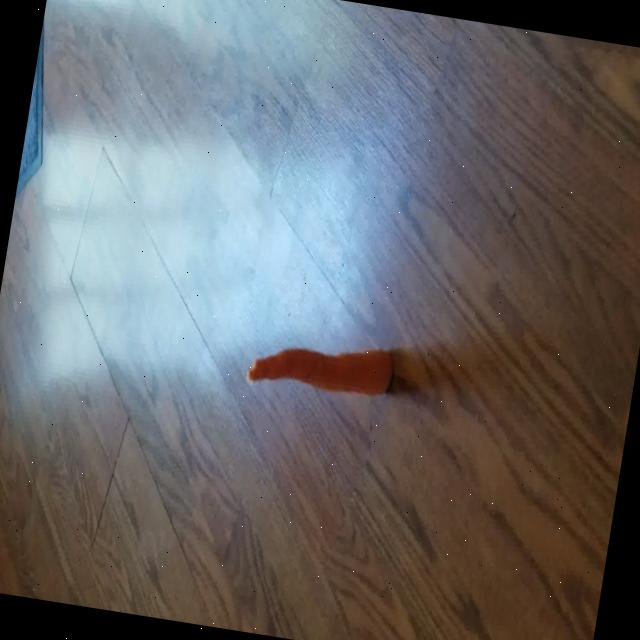carrot: (246, 347, 393, 395)
